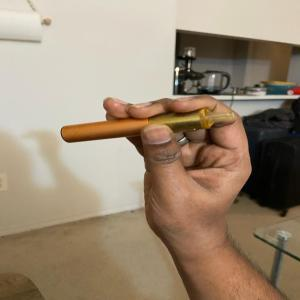Golden-E-Ciggirate: (55, 106, 238, 144)
